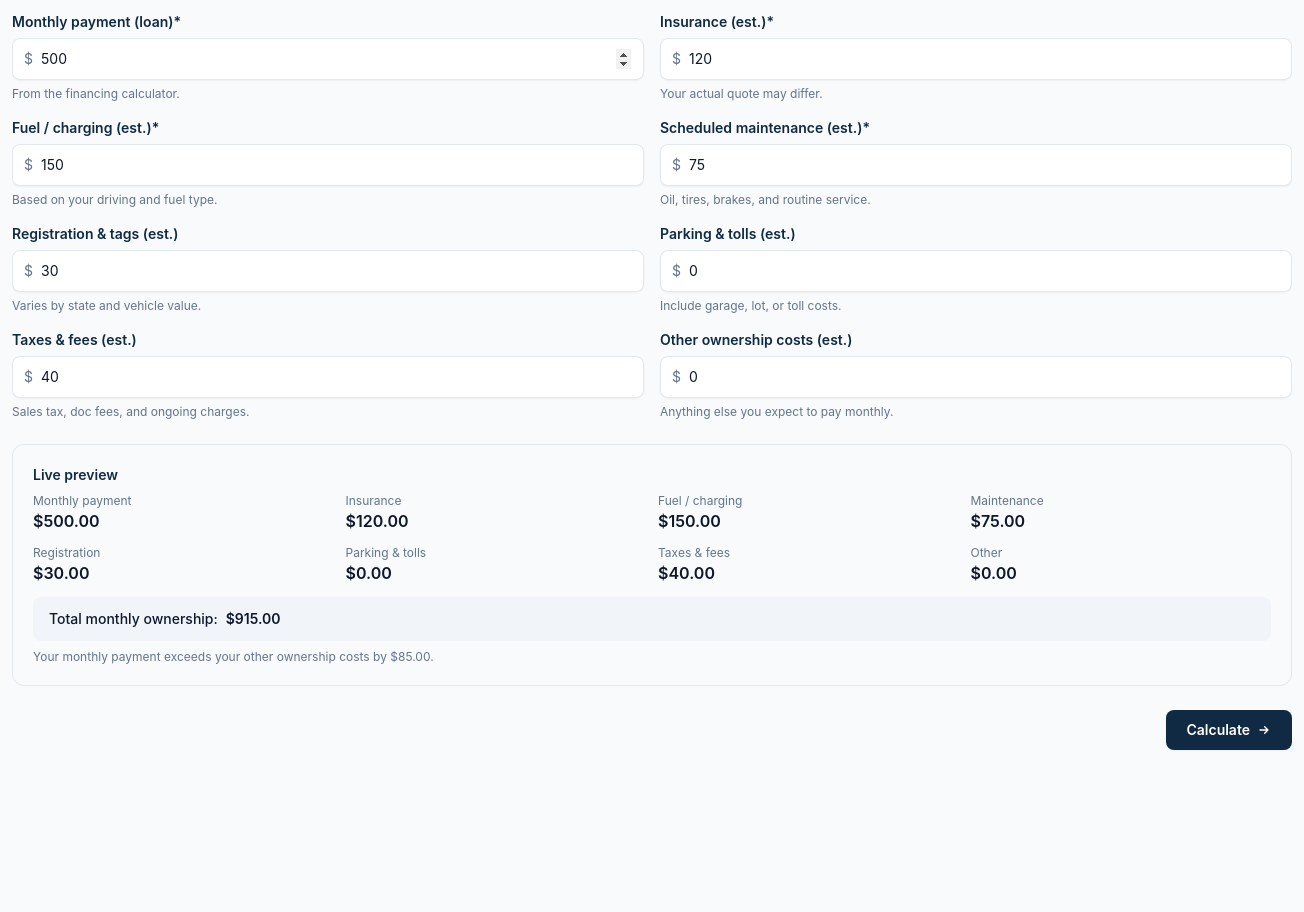
Scenario: OwnershipBudget › rejects zero or negative monthly payment
Type "-100" into the number field labelled "Monthly payment (loan)*" at [328, 59], box [12, 38, 644, 80]
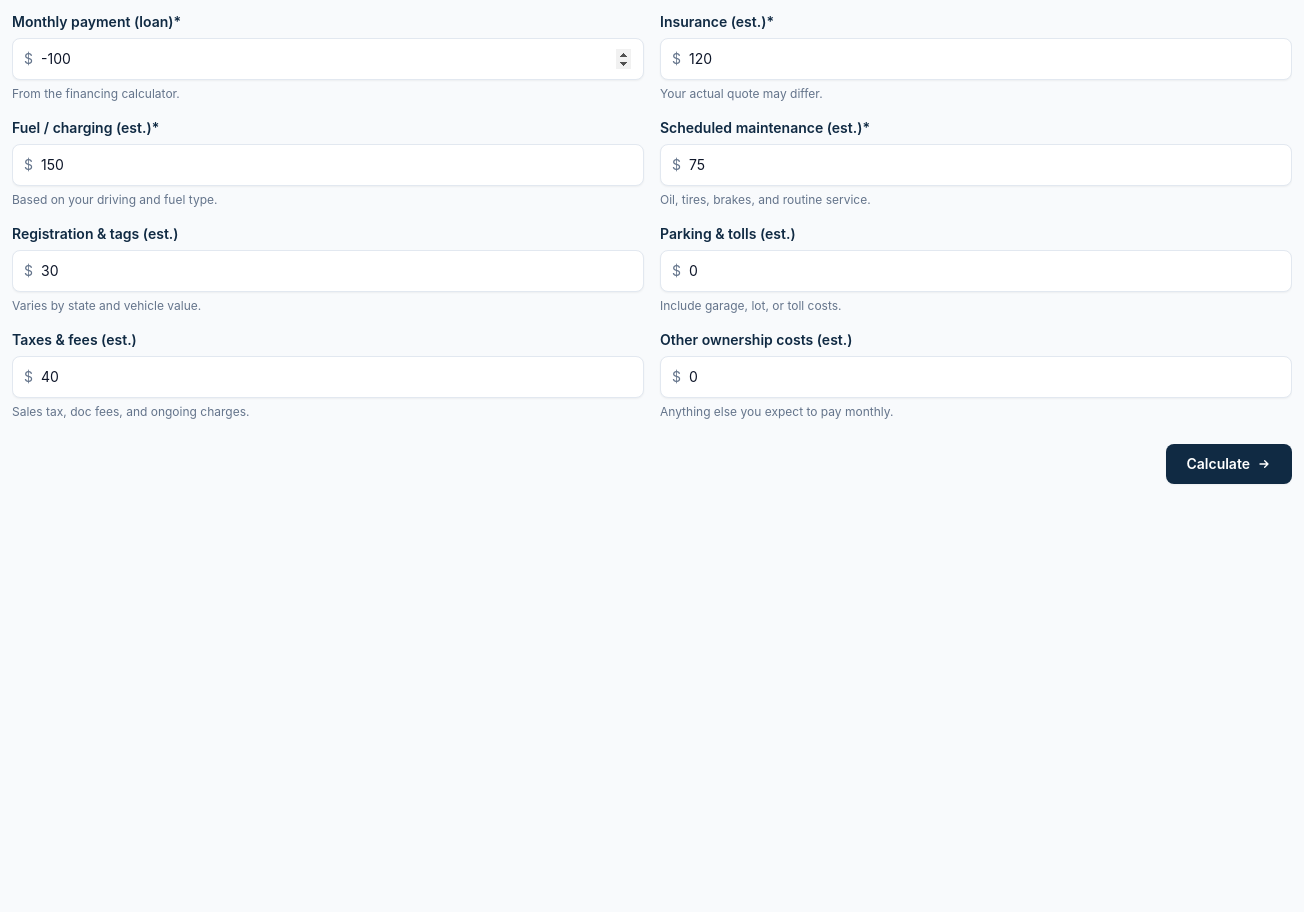
Click the button "Calculate" at [1229, 464], box [1166, 444, 1292, 484]
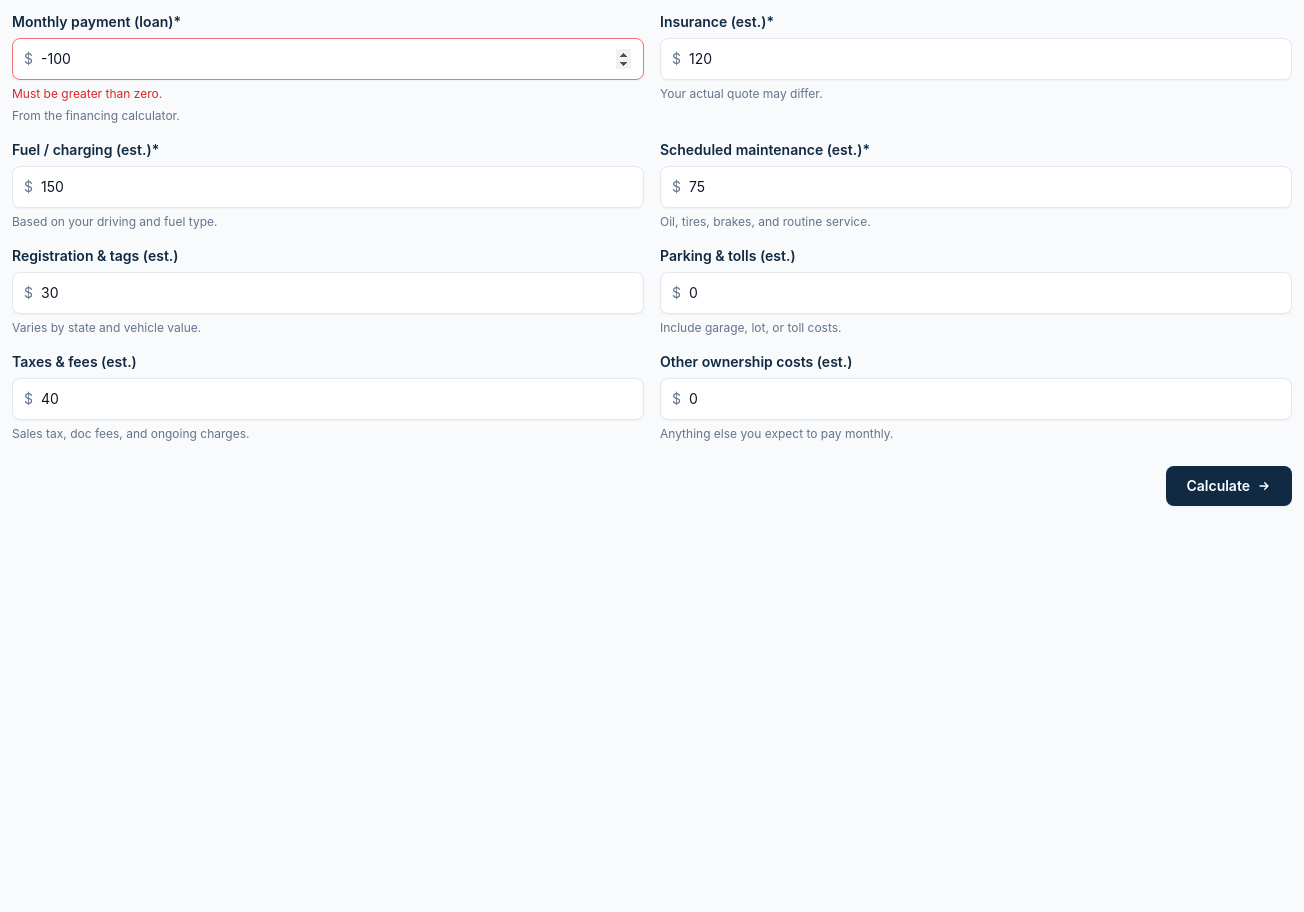
Now the text "Must be greater than zero." is shown, box [12, 86, 162, 101]
